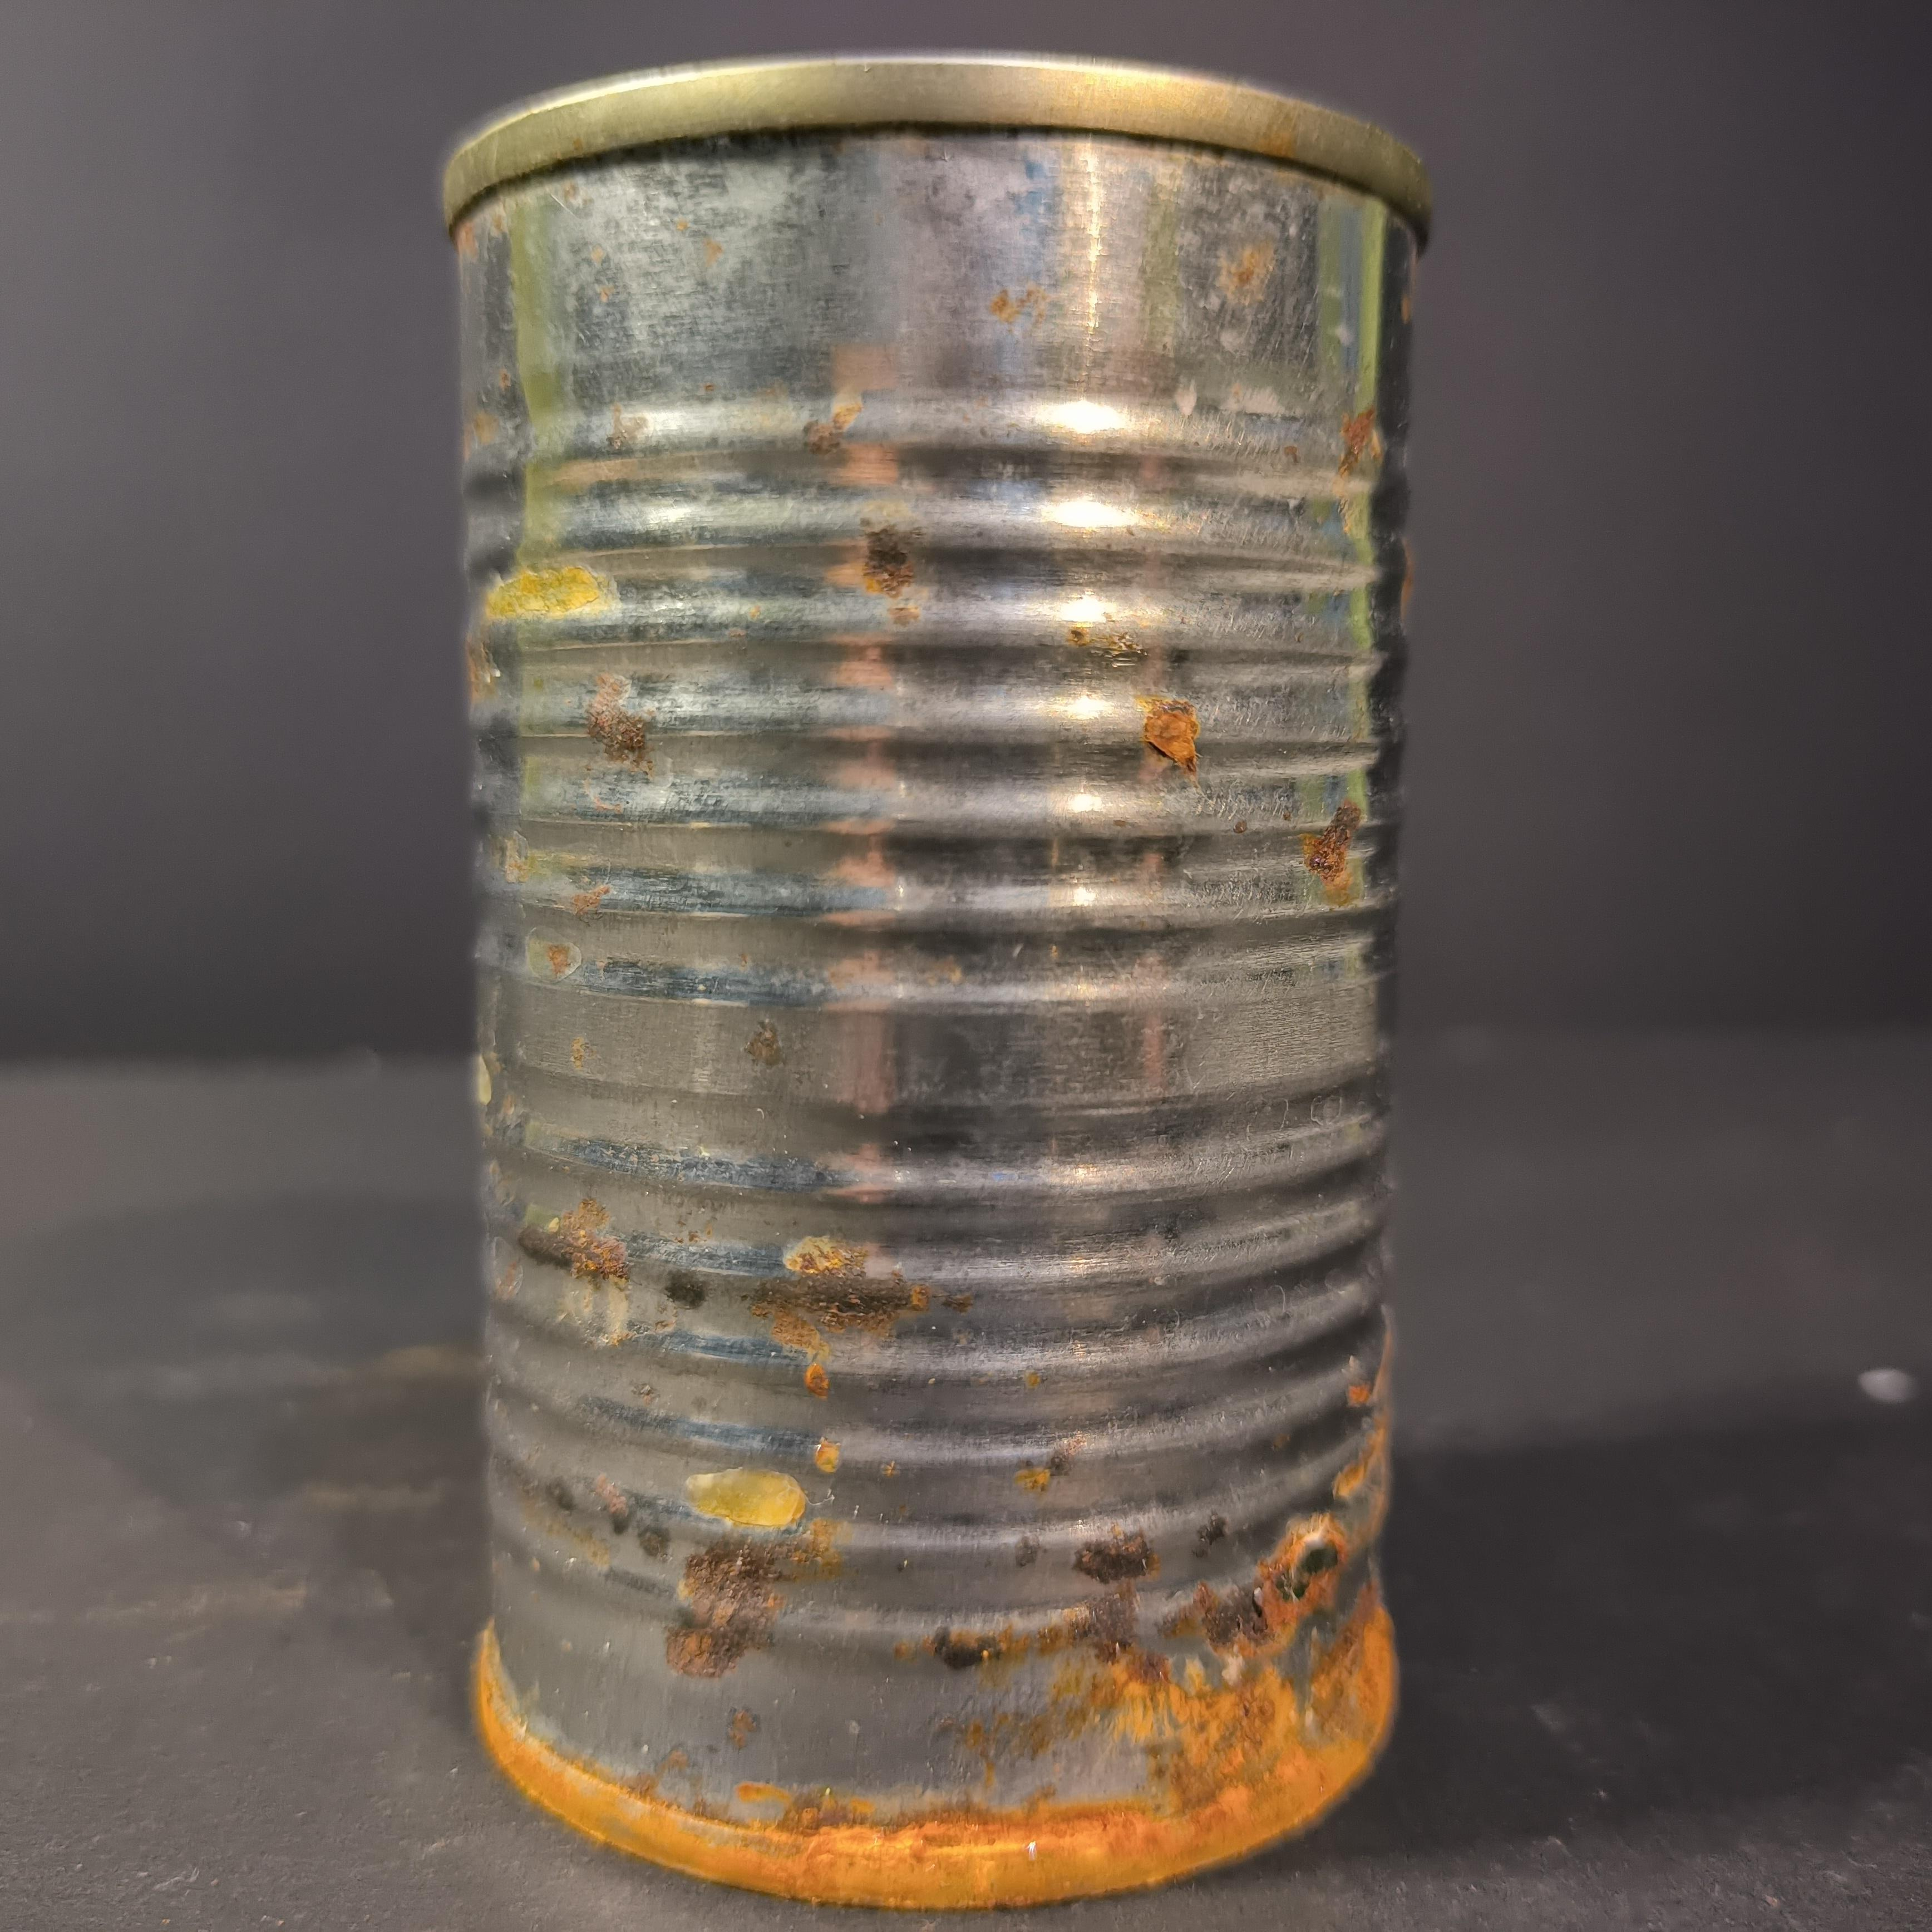Rusted: (417, 25, 1461, 1932)
